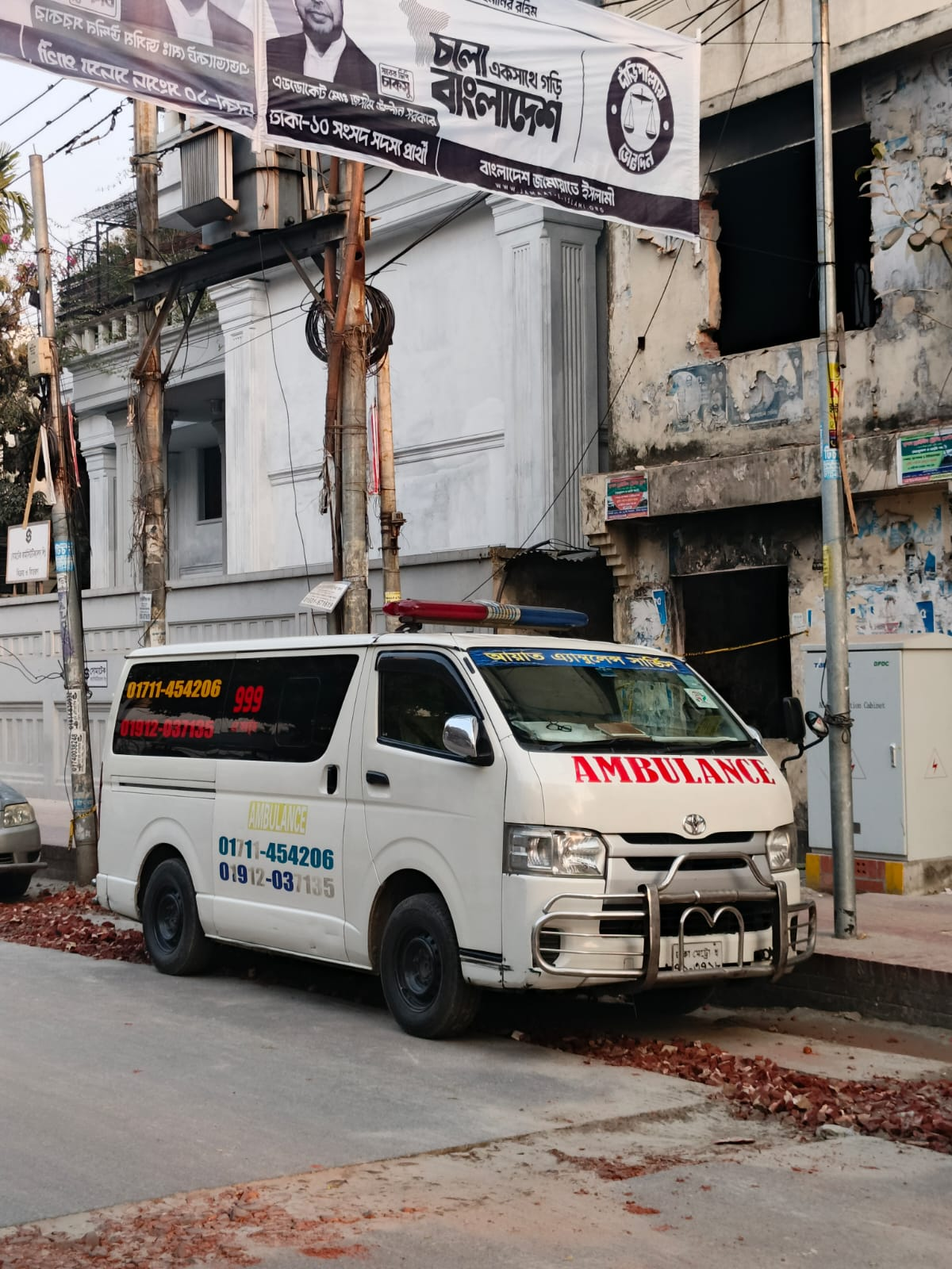Ambulance: (42, 577, 905, 1124)
